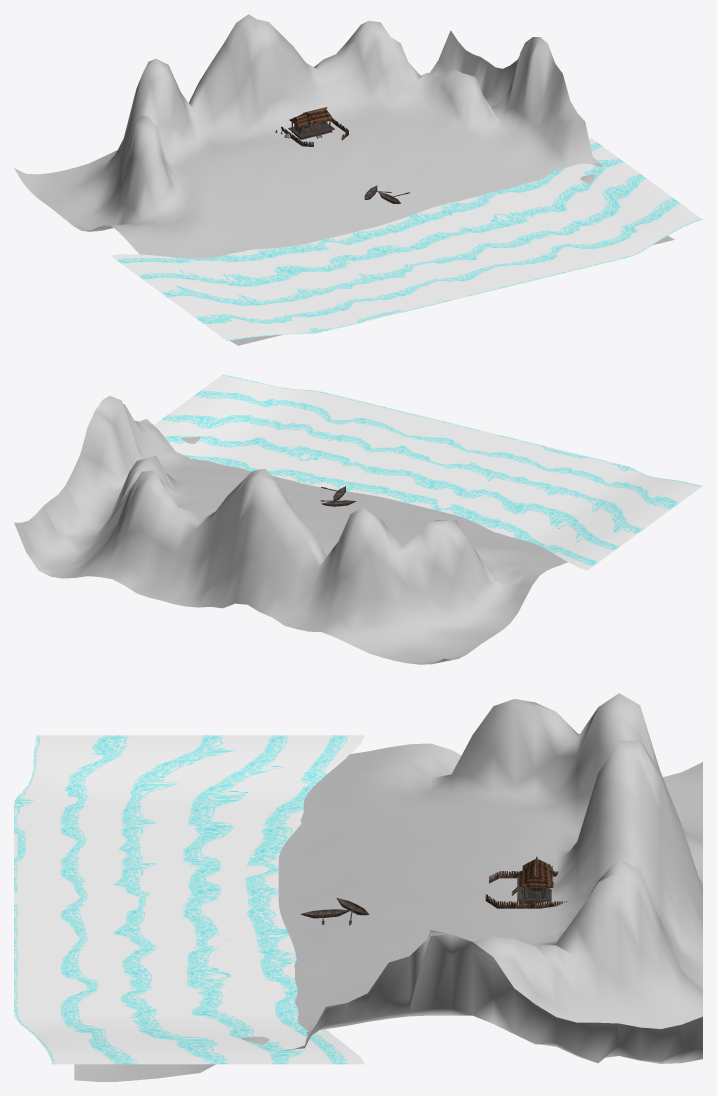
The model's file is Beach.FBX.
3 renders of one model, top to bottom at view 1: azimuth 30°, elevation 25°; view 2: azimuth 150°, elevation 25°; view 3: azimuth 270°, elevation 25°, orthographic. The views are drawn at different scales.
Visible parts, largest first — view 1: Plane01, Plane02, Cylinder06; view 2: Plane01, Plane02; view 3: Plane01, Plane02, Cylinder06, Plane13.
Part boxes in pixels (<box>): Plane01: <box>14,14,674,345</box>; Plane02: <box>110,138,702,341</box>; Cylinder06: <box>288,107,334,139</box>; Plane01: <box>14,396,567,664</box>; Plane02: <box>154,374,702,570</box>; Plane01: <box>74,693,702,1081</box>; Plane02: <box>14,735,364,1064</box>; Cylinder06: <box>511,856,553,903</box>; Plane13: <box>485,871,567,908</box>.
Size of the model in its own units: 7751 by 2074 by 6858.
